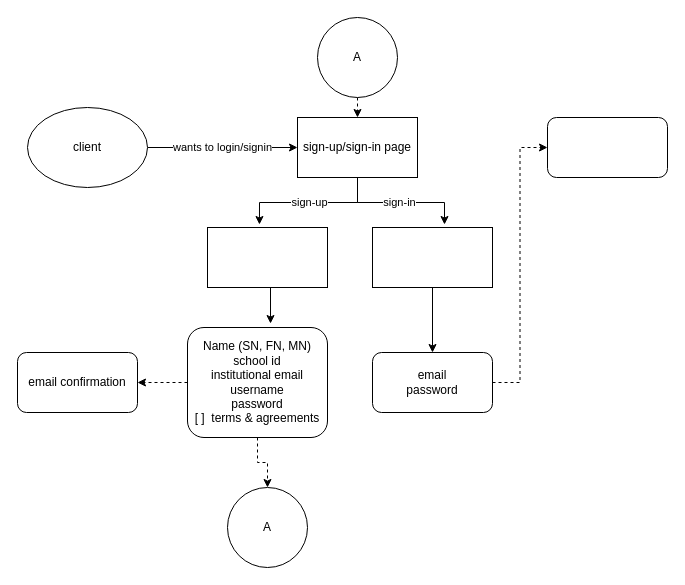
Image size: 685x585. Some labels were removed from this diagram. The shapes that lost their labels are listed below. From the top down, each one's box as (x1, y1, x2, y2) in pixels, then its label:
(546, 116, 668, 178): Home Page
(206, 226, 328, 288): Sign-up page
(372, 226, 492, 288): Sign-in page
